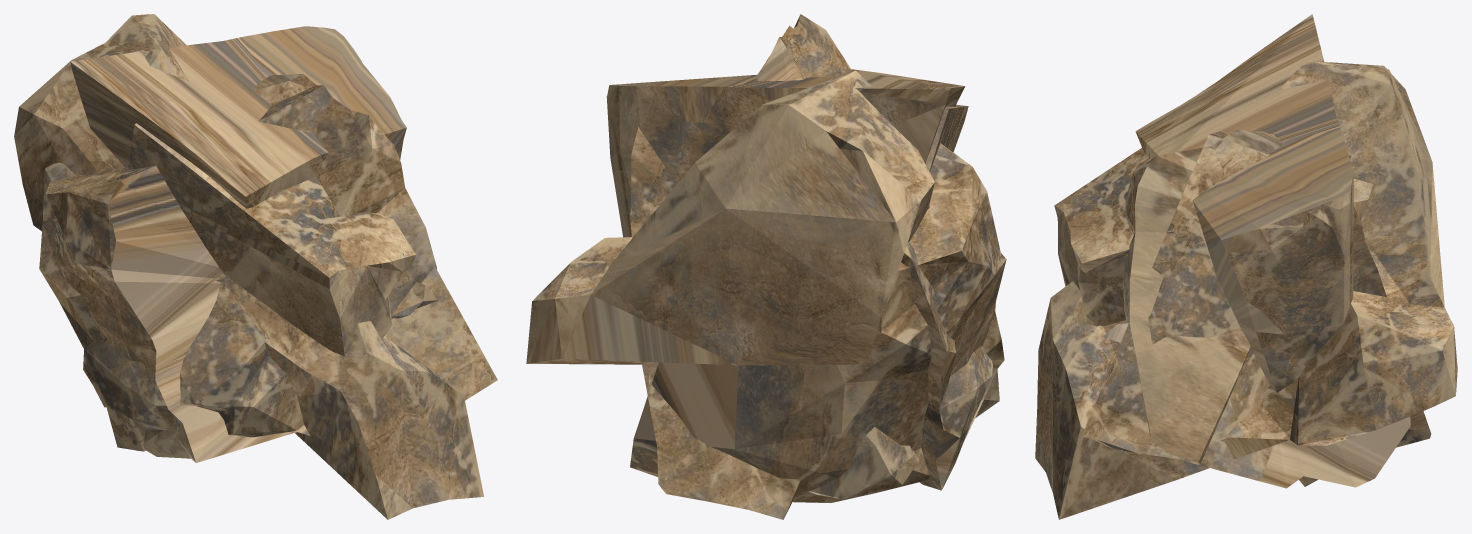
Rendered from cliff_rock_shards.glb.
The picture shows the model from 3 angles, left to right: view 1: azimuth 30°, elevation 25°; view 2: azimuth 150°, elevation 25°; view 3: azimuth 270°, elevation 25°; orthographic projection. The views are drawn at different scales.
Parts seen in each view (by area): view 1: Shard_3, Shard_2, Shard_5, Shard_1, Shard_4, Shard_0; view 2: Shard_3, Shard_2, Shard_5, Shard_4, Shard_1, Shard_0; view 3: Shard_3, Shard_5, Shard_2, Shard_1, Shard_4.
Boxes of the visible parts, x1,y1,x2,y2 form: Shard_3: (14,14,483,519); Shard_2: (45,85,497,462); Shard_5: (70,26,406,208); Shard_1: (39,74,436,451); Shard_4: (128,123,415,356); Shard_0: (94,282,438,407); Shard_3: (526,70,934,365); Shard_2: (630,25,1006,502); Shard_5: (606,69,965,237); Shard_4: (630,104,968,519); Shard_1: (757,14,993,490); Shard_0: (808,427,918,499); Shard_3: (1035,60,1457,519); Shard_5: (1135,14,1353,486); Shard_2: (1082,131,1410,488); Shard_1: (1123,130,1284,463); Shard_4: (1054,148,1431,447).
Size of the model in its own units: 0.1902 by 0.2262 by 0.2255.
1 material, 1 textured.
